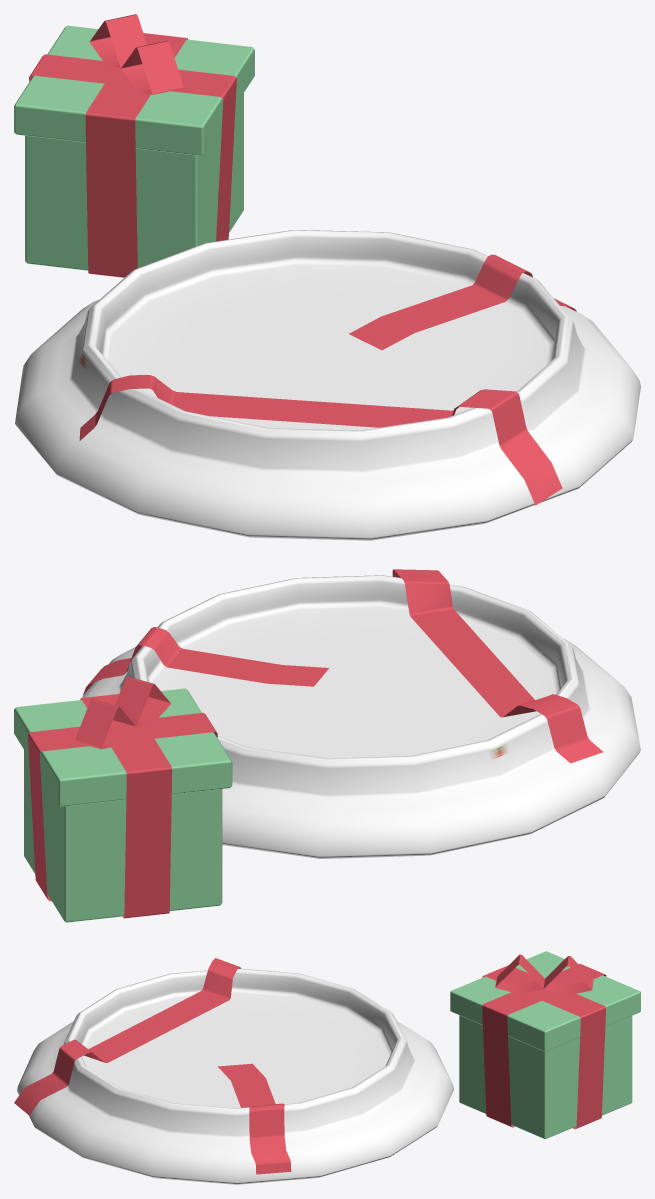
Rendered from gift_Platform003.fbx.
3 renders of one model, top to bottom at view 1: azimuth 30°, elevation 25°; view 2: azimuth 150°, elevation 25°; view 3: azimuth 270°, elevation 25°, orthographic. The views are drawn at different scales.
Visible parts, largest first — view 1: Box.002; view 2: Box.002; view 3: Box.002.
Boxes of the visible parts, bbox=[...] form: Box.002: bbox=[14, 14, 640, 540]; Box.002: bbox=[14, 569, 640, 922]; Box.002: bbox=[14, 951, 640, 1184].
Size of the model in its own units: 227 by 83.95 by 325.
